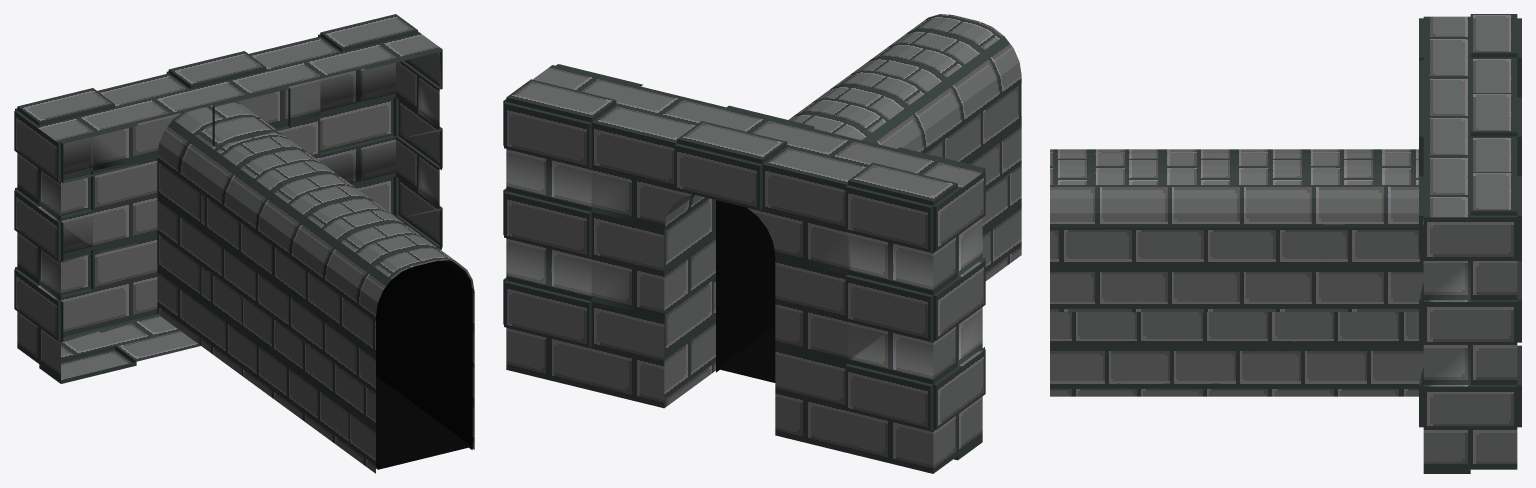
File: BrickDoorway.fbx
The picture shows the model from 3 angles, left to right: view 1: azimuth 30°, elevation 25°; view 2: azimuth 150°, elevation 25°; view 3: azimuth 270°, elevation 25°; orthographic projection. The views are drawn at different scales.
Parts seen in each view (by area): view 1: BrickBlock; view 2: BrickBlock; view 3: BrickBlock.
Boxes of the visible parts, <box> form: BrickBlock: <box>14,14,474,473</box>; BrickBlock: <box>503,14,1021,473</box>; BrickBlock: <box>1050,14,1521,473</box>.
Bounding box in the file's own units: 1015 × 620 × 1010.
